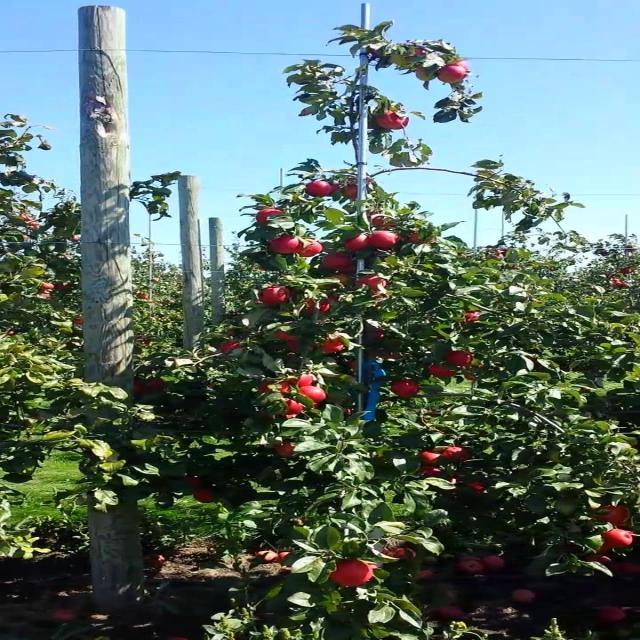apple: (326, 560, 377, 588), (376, 112, 412, 131), (596, 508, 631, 526), (269, 236, 300, 256), (134, 380, 169, 397), (369, 232, 400, 251), (390, 380, 420, 399), (276, 400, 306, 419), (262, 288, 292, 305), (262, 380, 293, 396), (604, 532, 633, 548), (440, 68, 469, 84), (447, 352, 476, 368), (362, 276, 391, 292), (298, 388, 327, 404), (291, 372, 318, 388), (369, 212, 396, 228), (305, 300, 332, 315), (255, 212, 284, 225), (220, 340, 245, 355), (447, 448, 473, 462), (326, 256, 352, 270), (348, 236, 370, 252), (298, 244, 325, 257), (276, 444, 299, 459), (305, 184, 331, 197), (383, 548, 411, 560), (433, 364, 455, 379), (461, 368, 485, 381), (454, 484, 485, 494), (284, 400, 306, 414), (326, 340, 347, 354), (419, 452, 443, 464), (184, 476, 204, 490), (419, 468, 444, 479), (461, 312, 482, 324), (333, 276, 354, 288), (198, 492, 217, 504), (419, 68, 436, 81), (390, 56, 412, 66), (333, 260, 354, 270), (348, 184, 361, 200), (404, 232, 421, 244), (340, 264, 357, 275), (355, 176, 375, 185), (376, 352, 398, 360), (276, 332, 295, 341), (461, 372, 480, 381), (454, 60, 469, 71), (291, 340, 302, 353), (412, 48, 428, 56), (326, 296, 341, 303)
